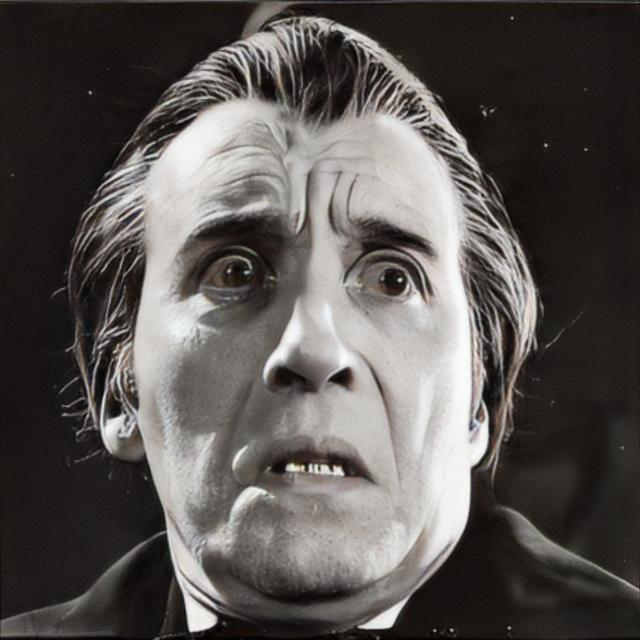fear: (136, 92, 473, 600)
